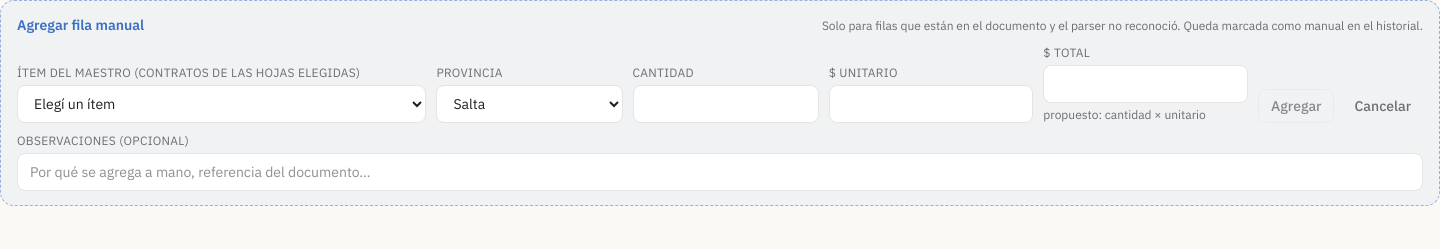
FilaManualForm › Agregar queda deshabilitado si el total quedó vacío
The image size is (1440, 249).
Select "K8 · 5 · Adicional para servicios que superen los 3 metros" in the dropdown labelled "Ítem del maestro (contratos de las hojas elegidas)" at (222, 104), box [17,85,426,123]
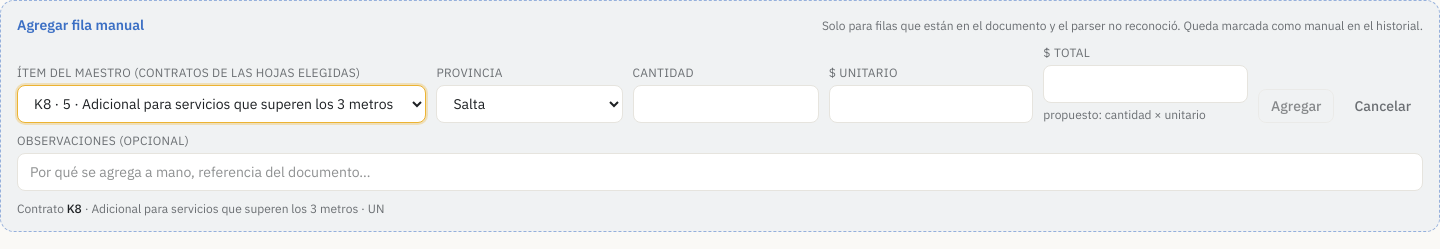
Type "4" into the field labelled "Cantidad" at (726, 104), box [632,85,819,123]
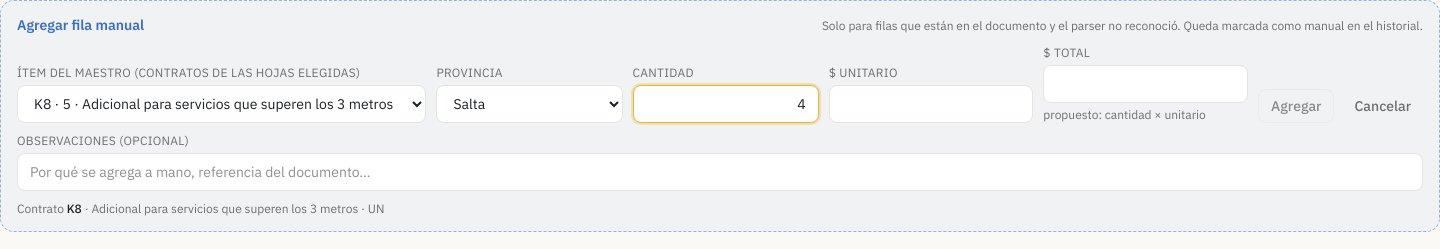
Type "100" into the field labelled "$ Unitario" at (931, 104), box [829,85,1033,123]
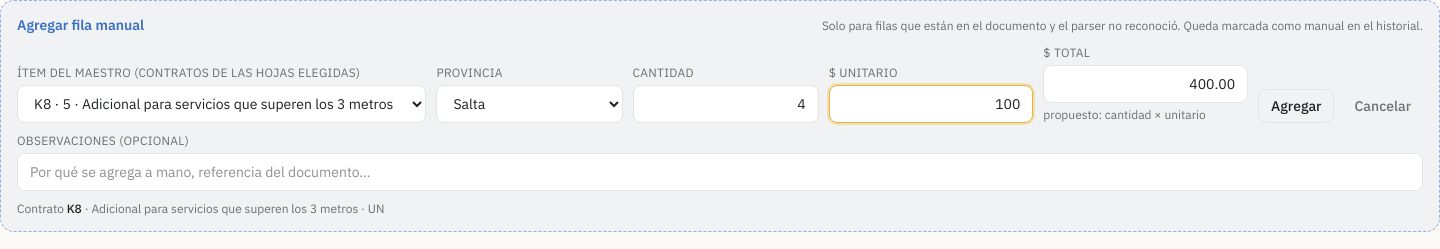
Result: the button "Agregar" is enabled at [1258,89,1334,123]
Clear the field labelled "$ Total" at (1146, 84), box [1043,65,1248,103]
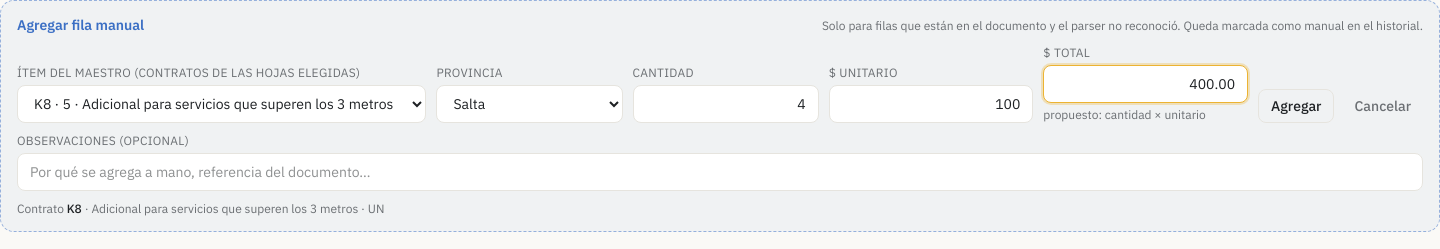
Clear the field labelled "Cantidad" at (726, 104), box [632,85,819,123]
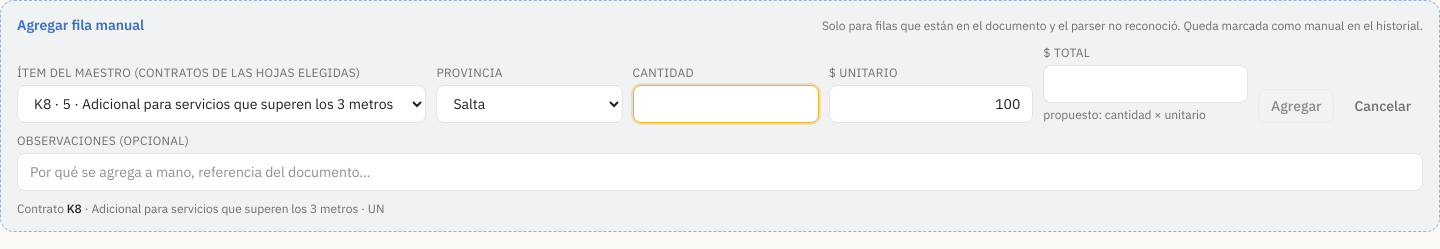
Result: the button "Agregar" is disabled at [1258,89,1334,123]
